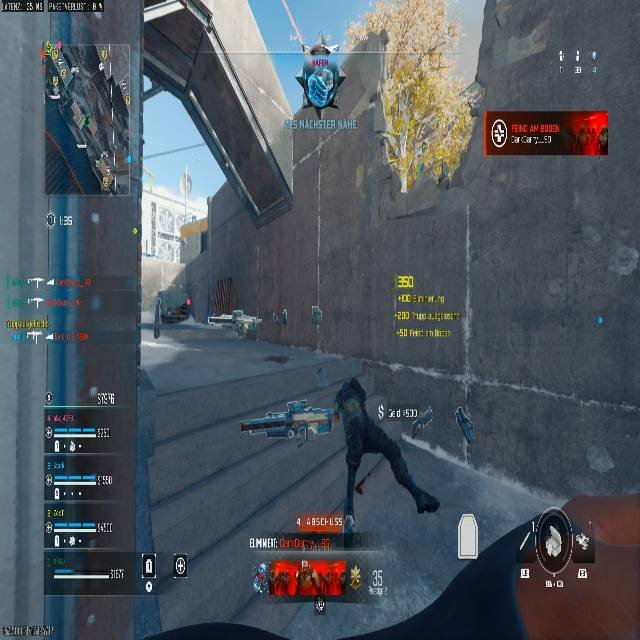head: (332, 378, 367, 424), (309, 43, 330, 57)
player: (336, 376, 441, 514), (294, 43, 346, 111)
